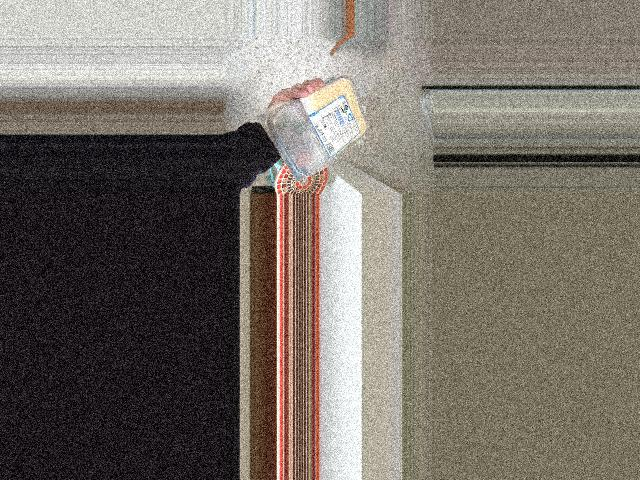cheese: (273, 90, 371, 177)
